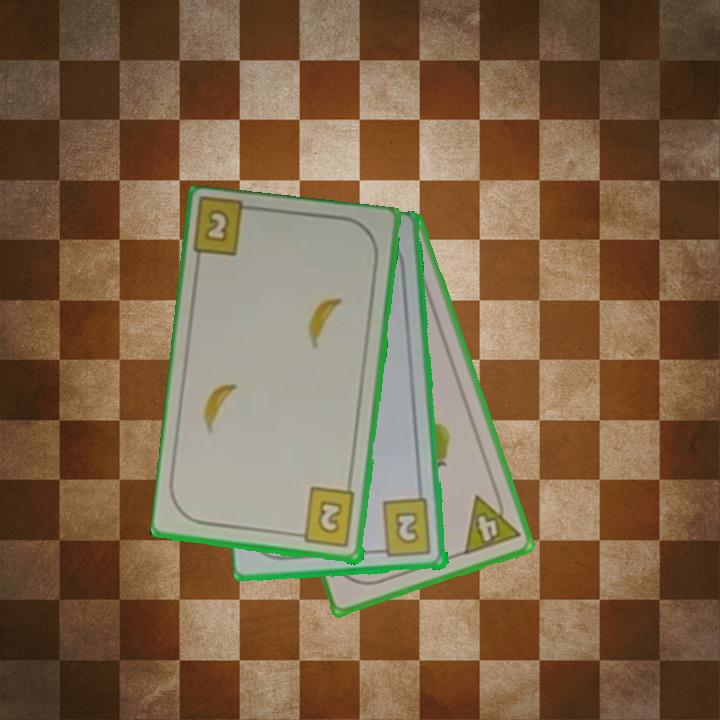2b: (291, 485, 358, 550), (373, 496, 435, 561), (201, 206, 233, 246)
4p: (460, 485, 523, 558)
